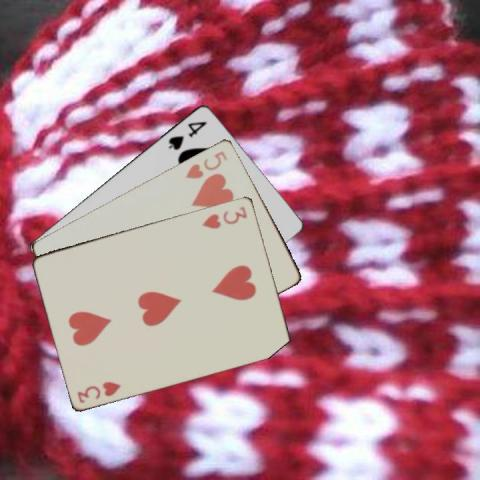3h: (199, 203, 249, 230), (74, 378, 122, 404)
4s: (164, 118, 208, 152)
5h: (182, 147, 229, 180)
